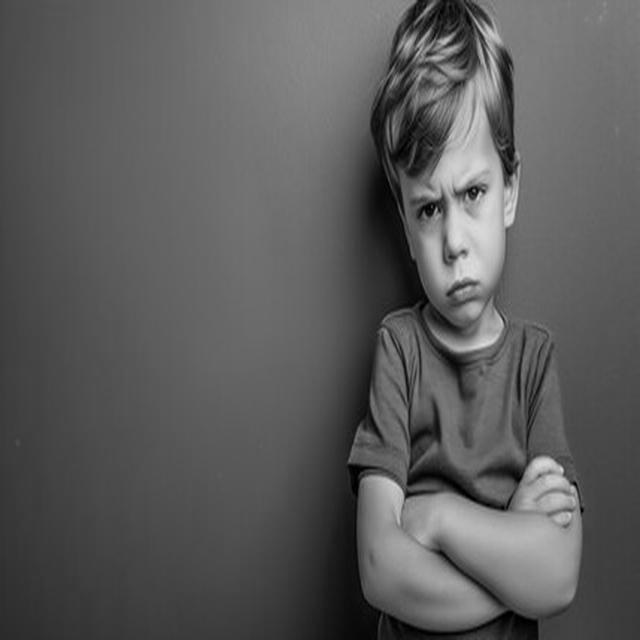Angry: (397, 89, 505, 328)
